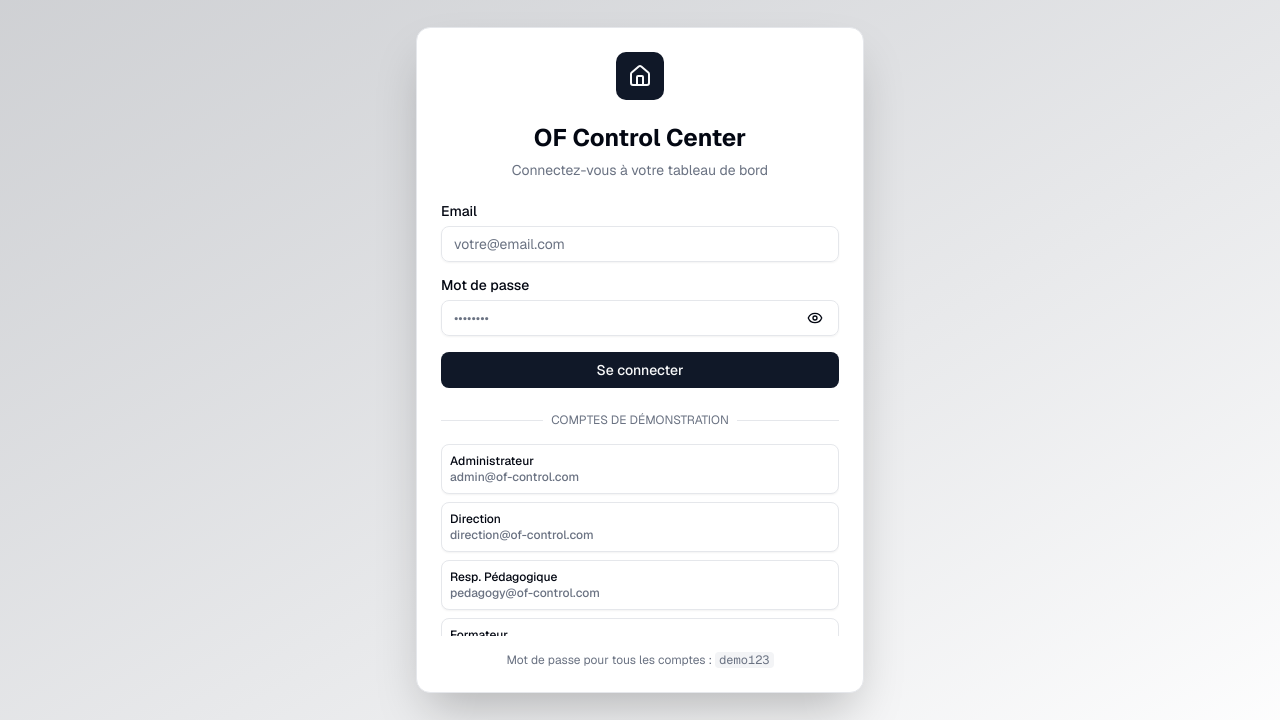
LoginForm › fills form when demo account is clicked
Click the button "Administrateur admin@of-control.com" at (492,461), box [441,444,839,494]
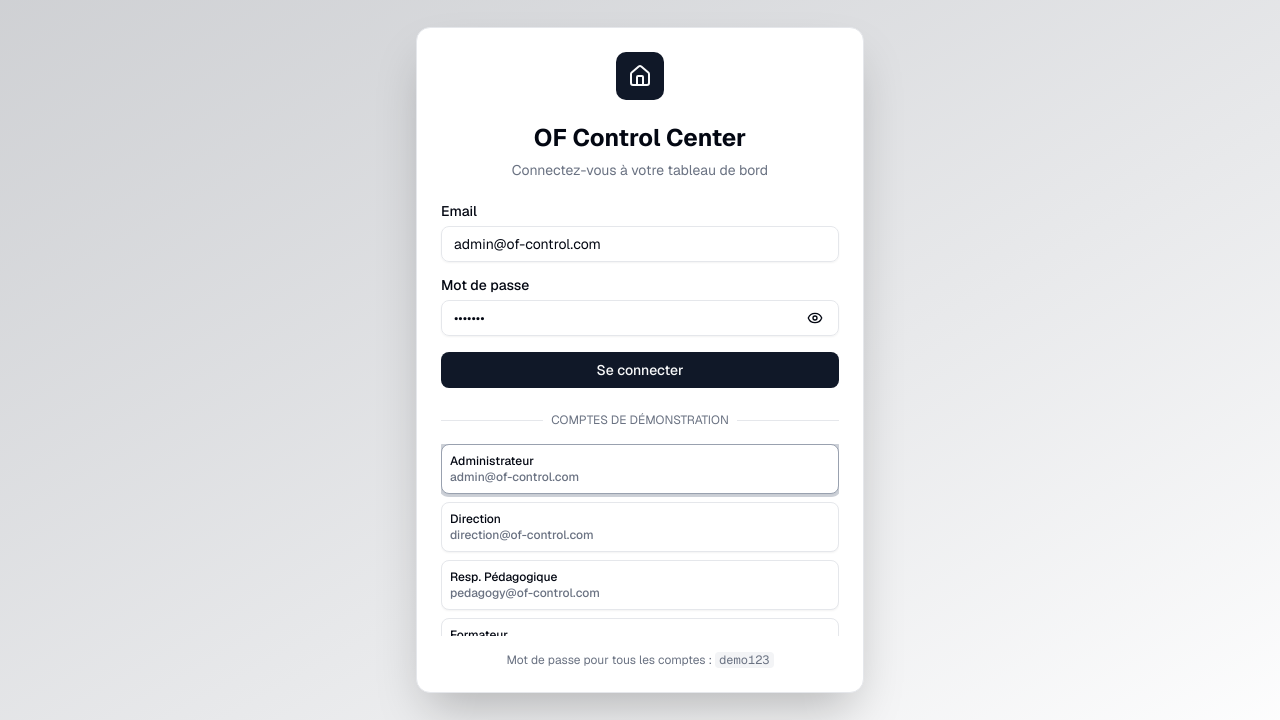
Result: the field labelled "Email" holds "admin@of-control.com" at [441,226,839,262]
Result: the password field labelled "Mot de passe" holds "demo123" at [441,300,839,336]
